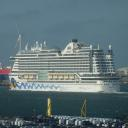cruises: (9, 40, 124, 96)
